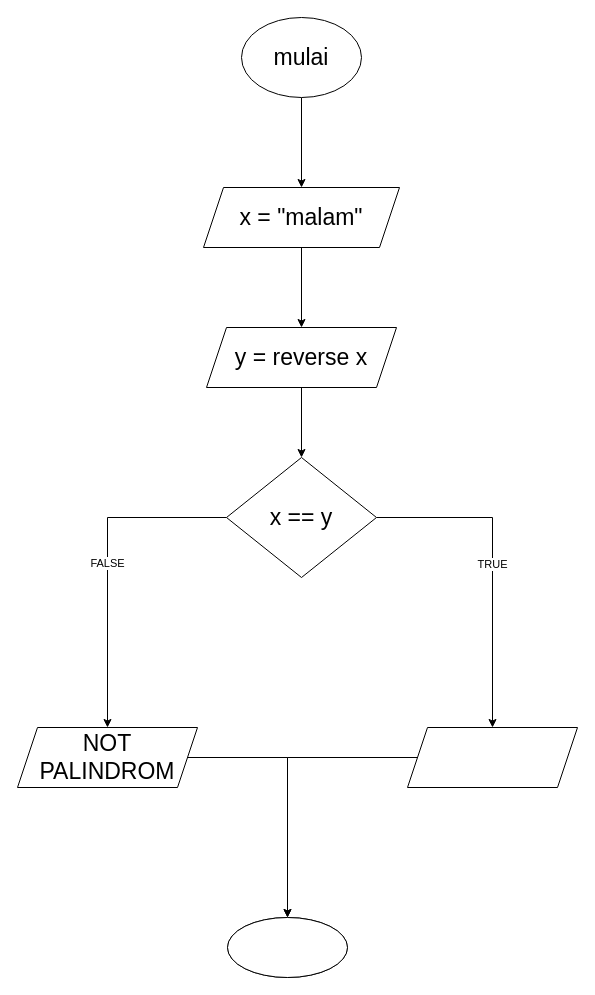
This 595x995 diagram has some shape labels left out. The shapes that lost their labels are listed below. From the top down, each one's centre as x and y in pixels, then its label:
At [492,757]: "PALINDROM".
At [287,947]: "SELESAI".
